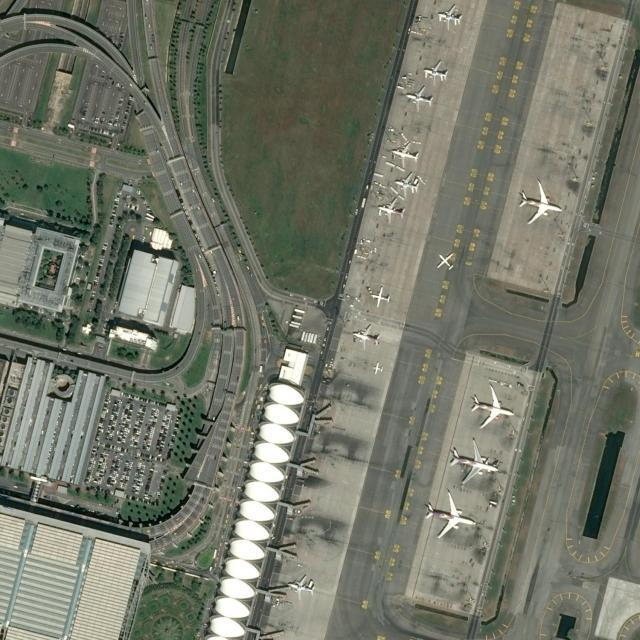Aircraft: (446, 436, 502, 486), (422, 490, 478, 540), (512, 177, 563, 228), (467, 380, 515, 431), (388, 138, 418, 168), (402, 84, 434, 112), (376, 194, 408, 222), (350, 322, 381, 350), (286, 572, 316, 600), (421, 57, 451, 84), (392, 170, 420, 198), (436, 2, 466, 28), (366, 284, 391, 310), (430, 251, 457, 273), (368, 359, 383, 375)
